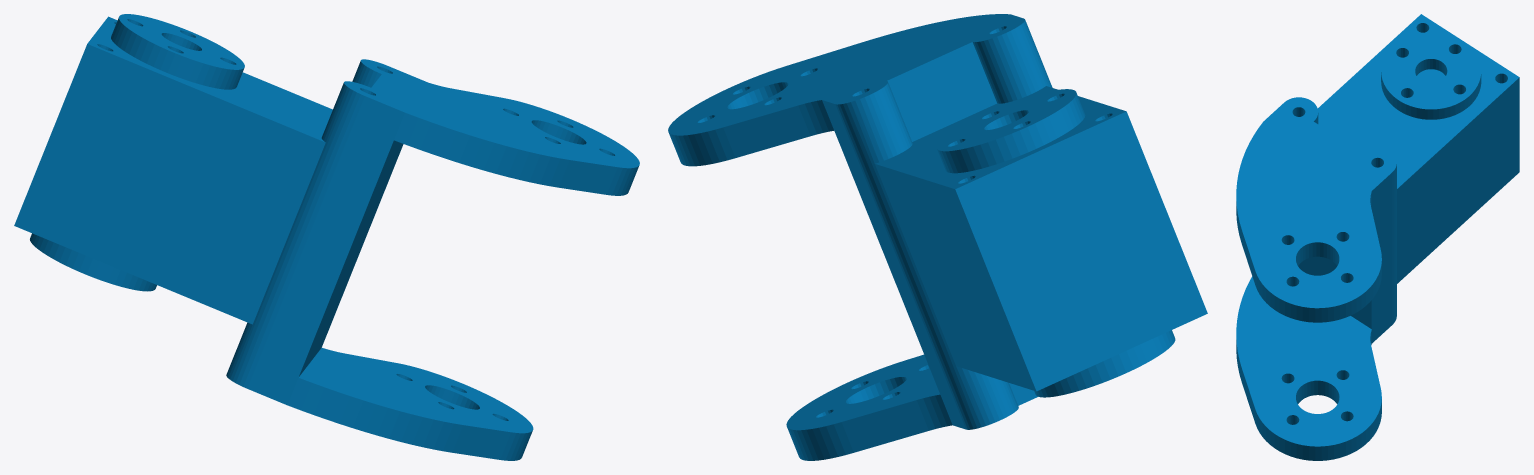
The model's file is hexy_test_5_Femur_2_vis_1.dae.
3 renders of one model, left to right at view 1: azimuth 30°, elevation 25°; view 2: azimuth 150°, elevation 25°; view 3: azimuth 270°, elevation 25°, orthographic. The views are drawn at different scales.
Parts seen in each view (by area): view 1: node; view 2: node; view 3: node.
Part boxes in pixels (box(x1,y1,x2,y2)): node: box(14, 14, 639, 460); node: box(668, 14, 1207, 460); node: box(1236, 14, 1519, 460).
Bounding box in the file's own units: 0.3609 × 0.2747 × 0.2206.
